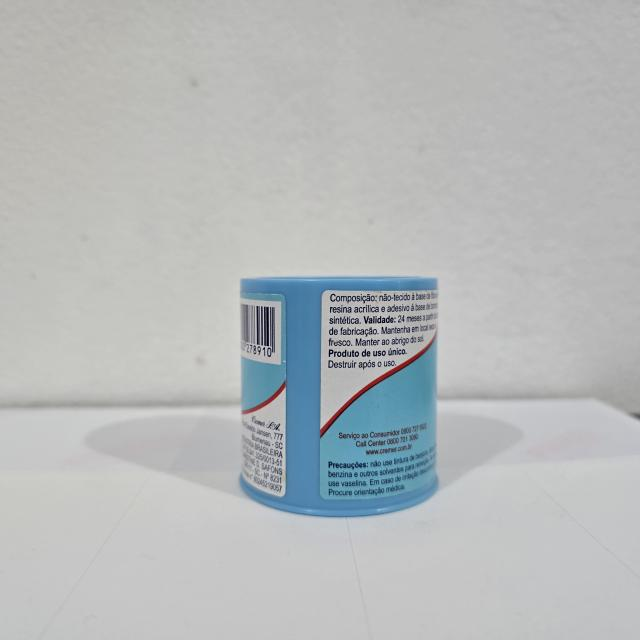procitex: (234, 270, 443, 521)
